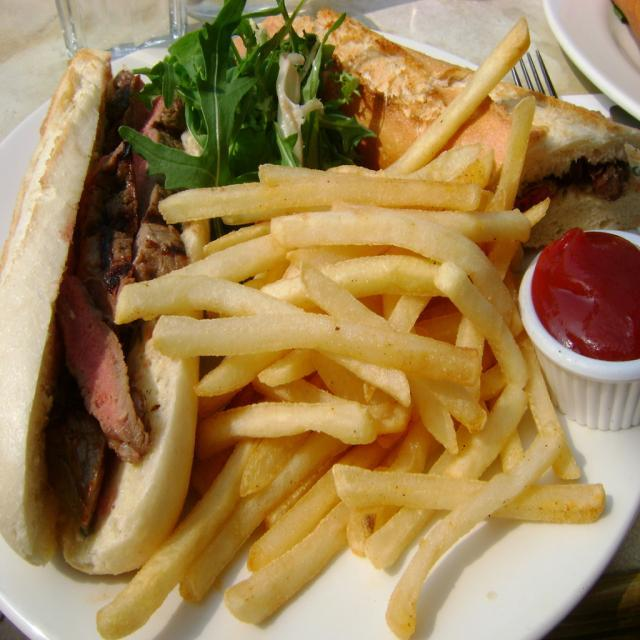Sandwich: (0, 45, 210, 569), (253, 2, 639, 253)
